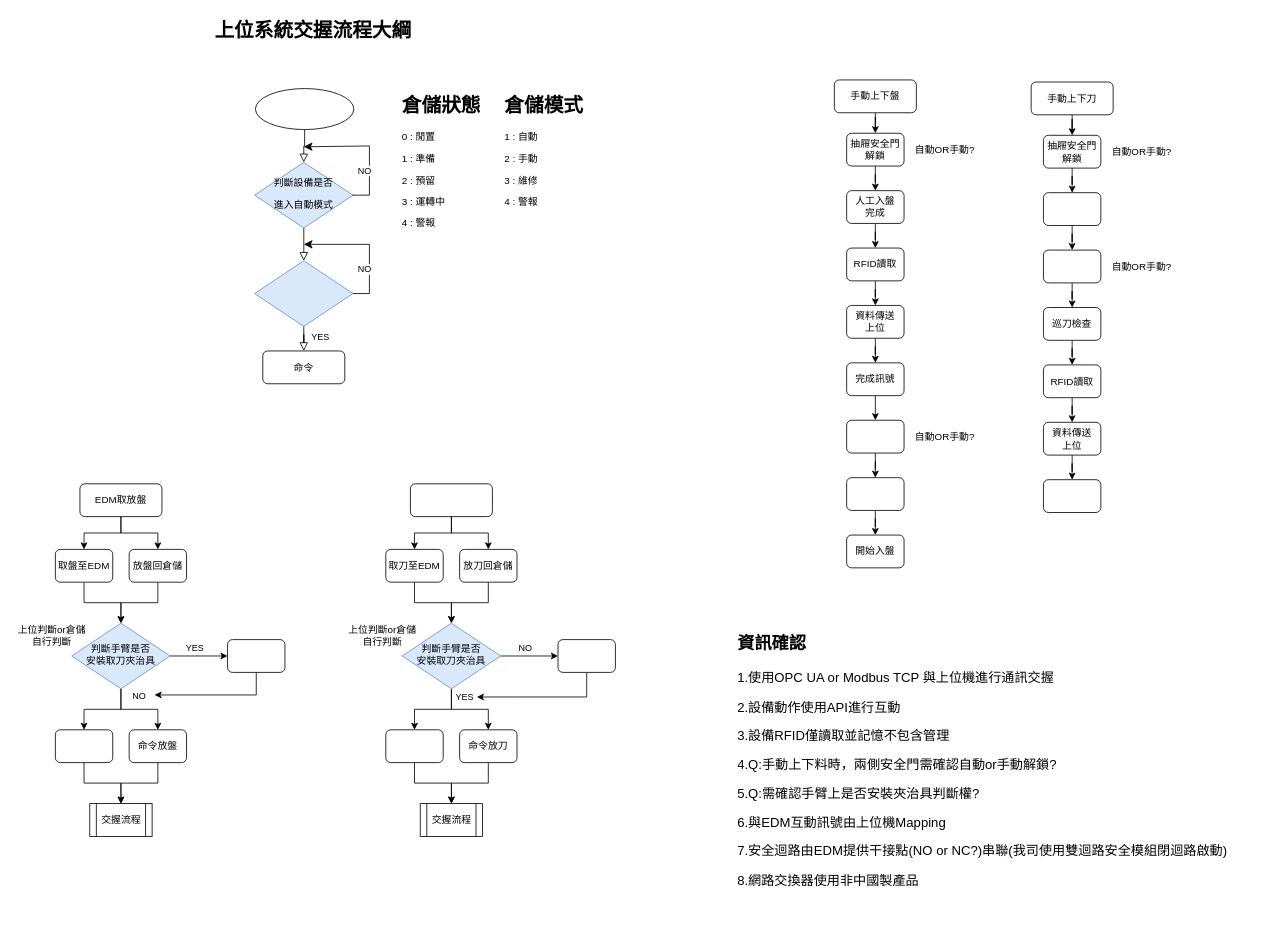
This 1274x932 diagram has some shape labels left out. Each missing label, with the box of its shape:
EDM取放刀: (410, 483, 492, 517)
人工入刀 完成: (1043, 192, 1101, 226)
判斷設備狀態 是否準備: (254, 260, 353, 326)
命令卸除 夾治具: (227, 639, 285, 672)
命令取刀: (385, 729, 443, 763)
命令取盤: (55, 729, 113, 763)
命令安裝 夾治具: (557, 639, 615, 672)
完成訊號: (1043, 479, 1101, 512)
抽屜安全門 上鎖: (1043, 249, 1101, 283)
抽屜安全門上鎖: (846, 419, 904, 453)
提供儲位: (846, 477, 904, 510)
與上位交握: (255, 88, 354, 130)
